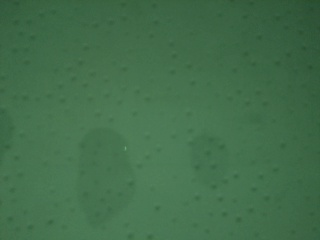Water_detected: (75, 129, 132, 204), (188, 140, 217, 183)
